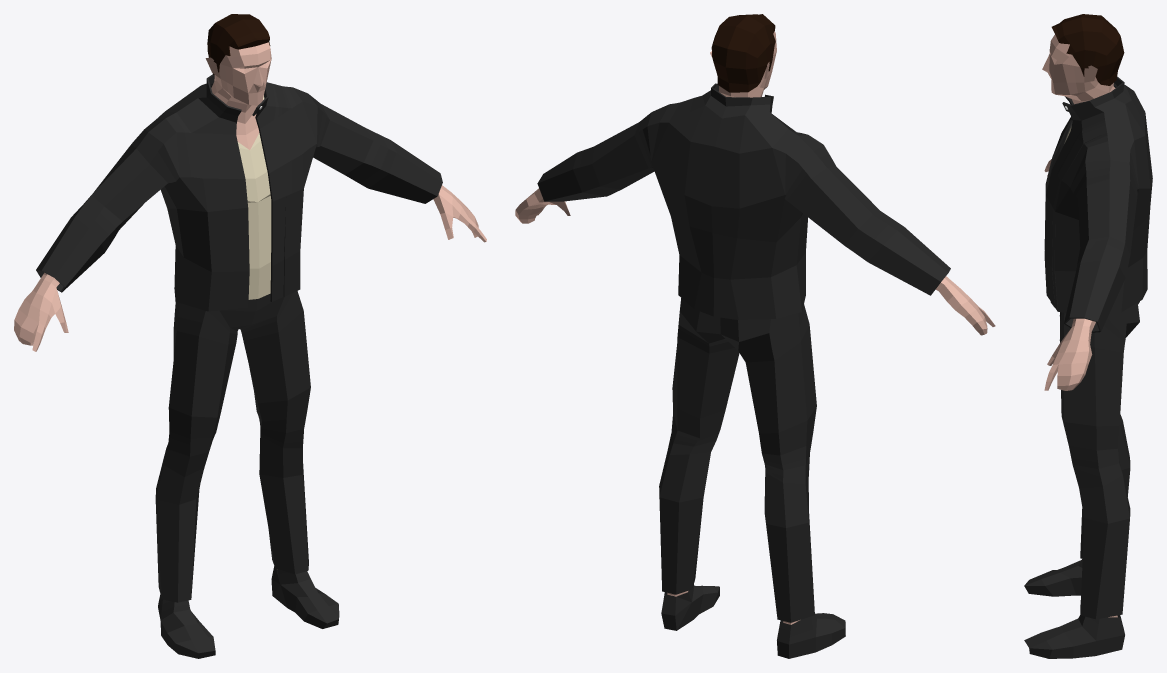
Rendered from waiter.fbx.
The picture shows the model from 3 angles, left to right: view 1: azimuth 30°, elevation 25°; view 2: azimuth 150°, elevation 25°; view 3: azimuth 270°, elevation 25°; orthographic projection.
Parts seen in each view (by area): view 1: jacket, jeans, eddie, Shoes, tshirt, hair; view 2: jacket, jeans, hair, Shoes, eddie; view 3: jacket, jeans, eddie, Shoes, hair.
Boxes of the visible parts, <box> form: jacket: <box>36,74,442,311</box>; jeans: <box>155,291,310,602</box>; eddie: <box>14,42,486,569</box>; Shoes: <box>158,566,339,658</box>; tshirt: <box>237,95,271,299</box>; hair: <box>207,14,270,74</box>; jacket: <box>537,83,950,319</box>; jeans: <box>659,298,816,622</box>; hair: <box>711,14,775,92</box>; Shoes: <box>661,584,845,658</box>; eddie: <box>515,31,995,624</box>; jacket: <box>1044,76,1152,332</box>; jeans: <box>1059,301,1139,619</box>; eddie: <box>1042,34,1117,617</box>; Shoes: <box>1024,559,1124,658</box>; hair: <box>1051,14,1124,85</box>.
Size of the model in its own units: 136 by 171 by 33.1.
